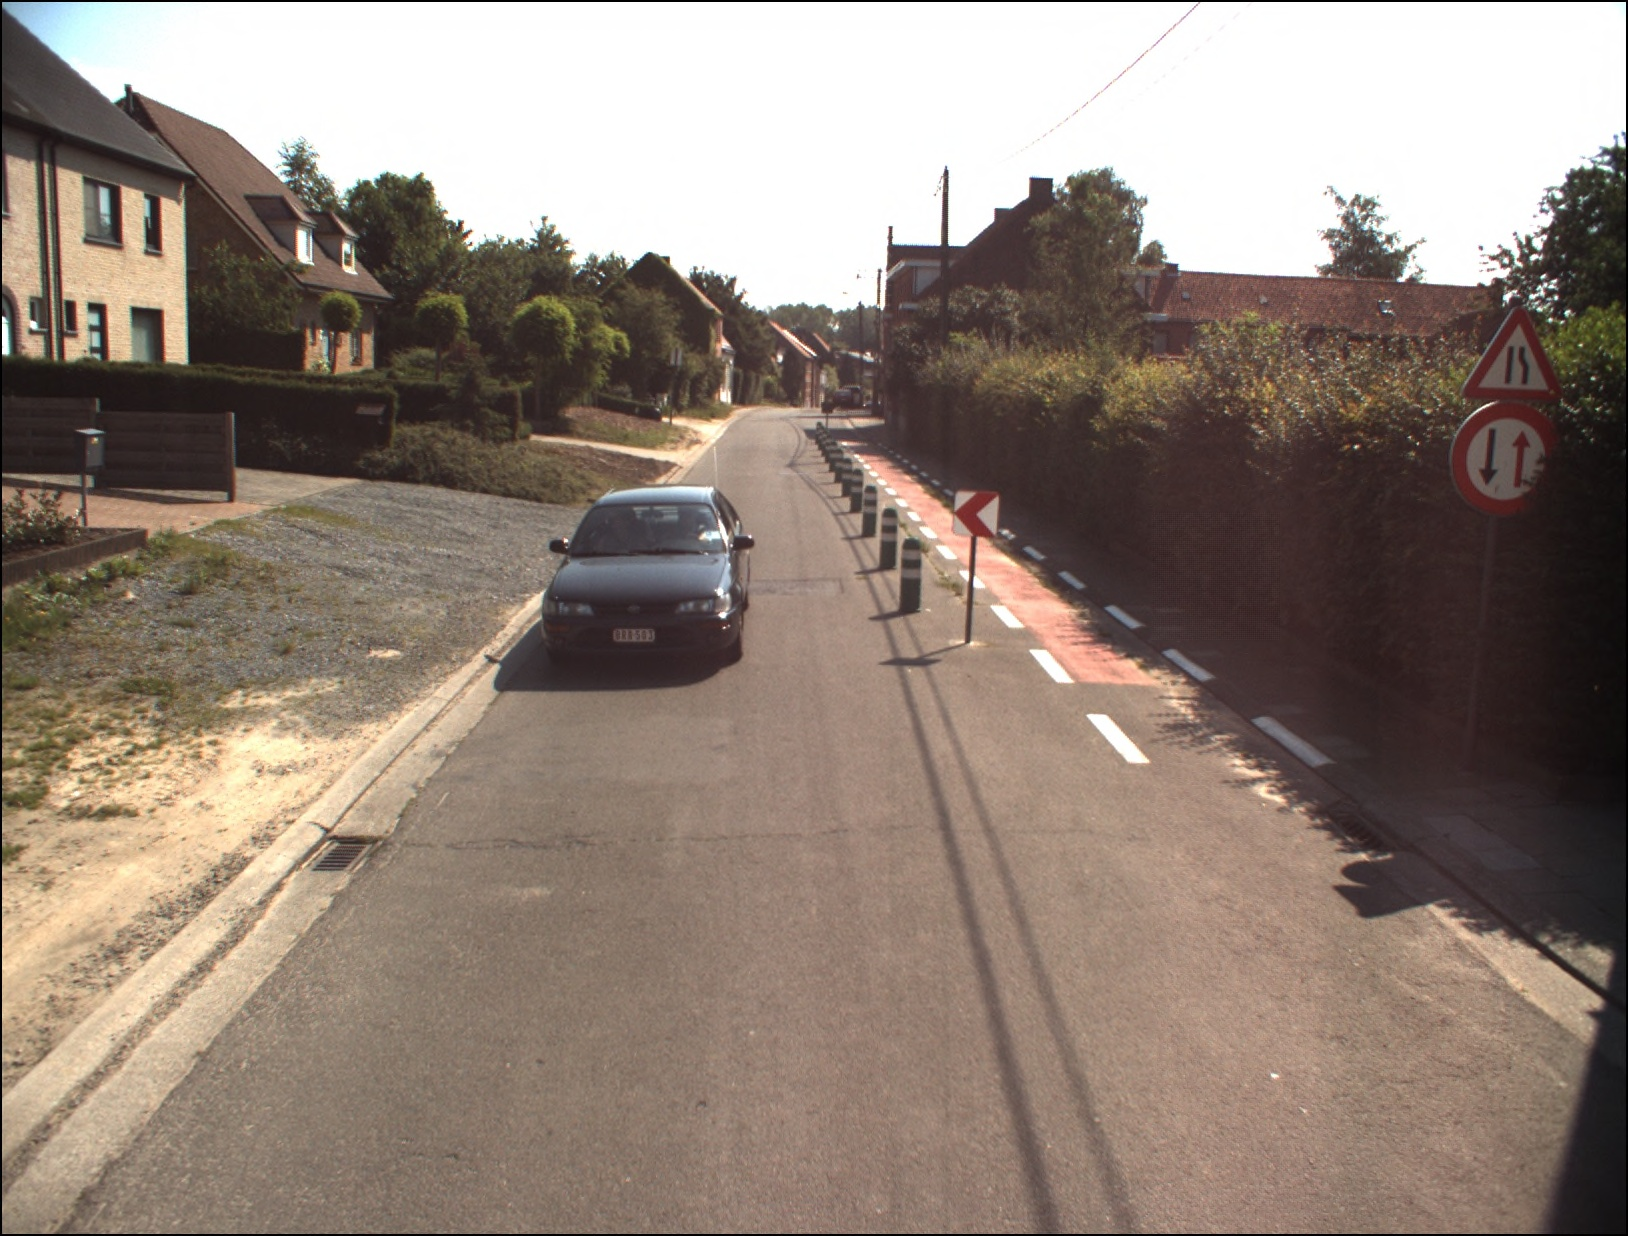roadnarrow2: (1450, 406, 1550, 515)
